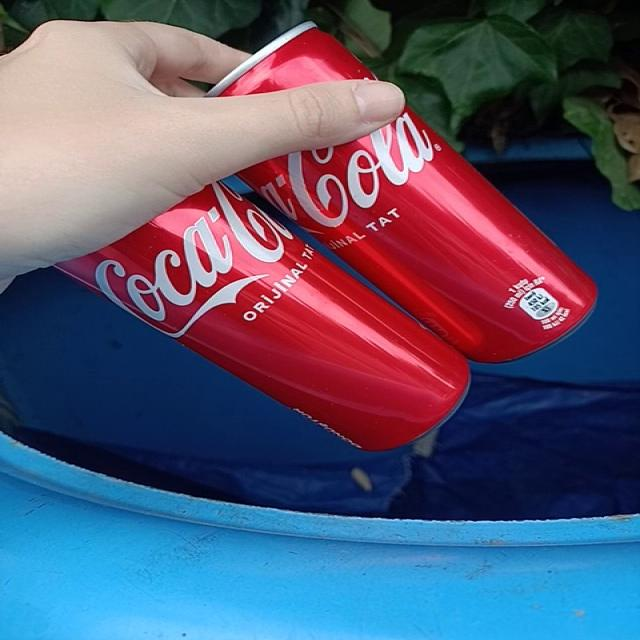bin: (1, 140, 640, 640)
metal: (57, 185, 469, 451), (241, 112, 596, 362), (215, 24, 371, 94)
